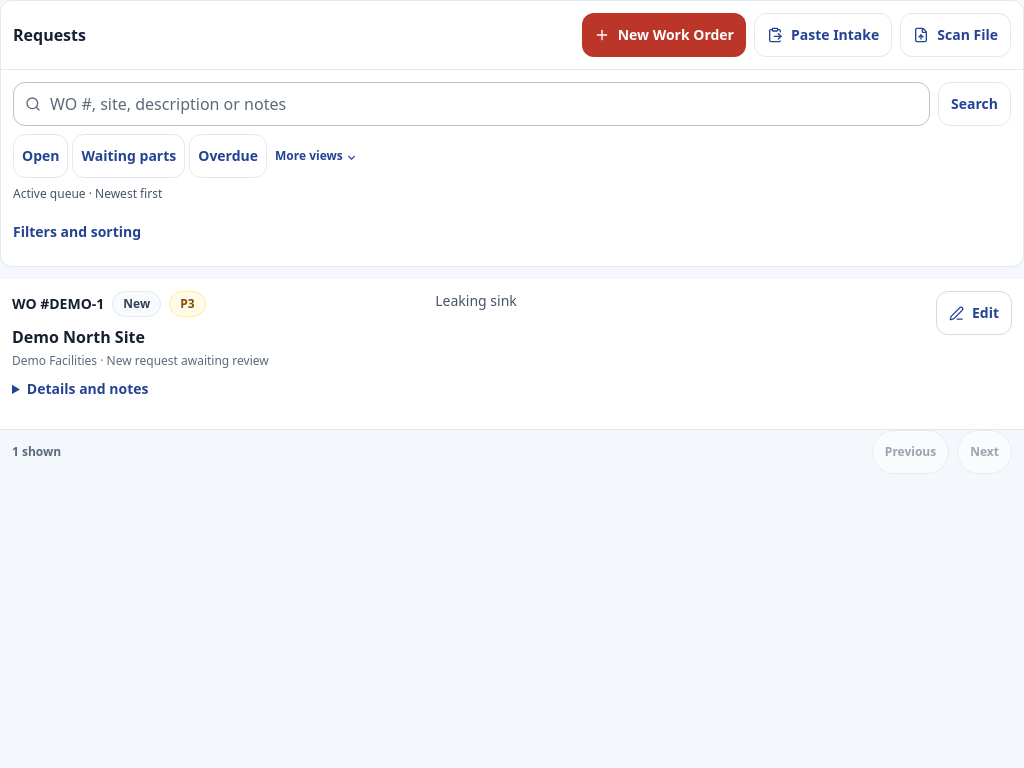
Test: work-order intake and editing › shows the saved priority in the editor when an older record has no normalized priority
This screenshot has width=1024, height=768.
Click the button "Edit" at (974, 313), box [936, 291, 1012, 335]
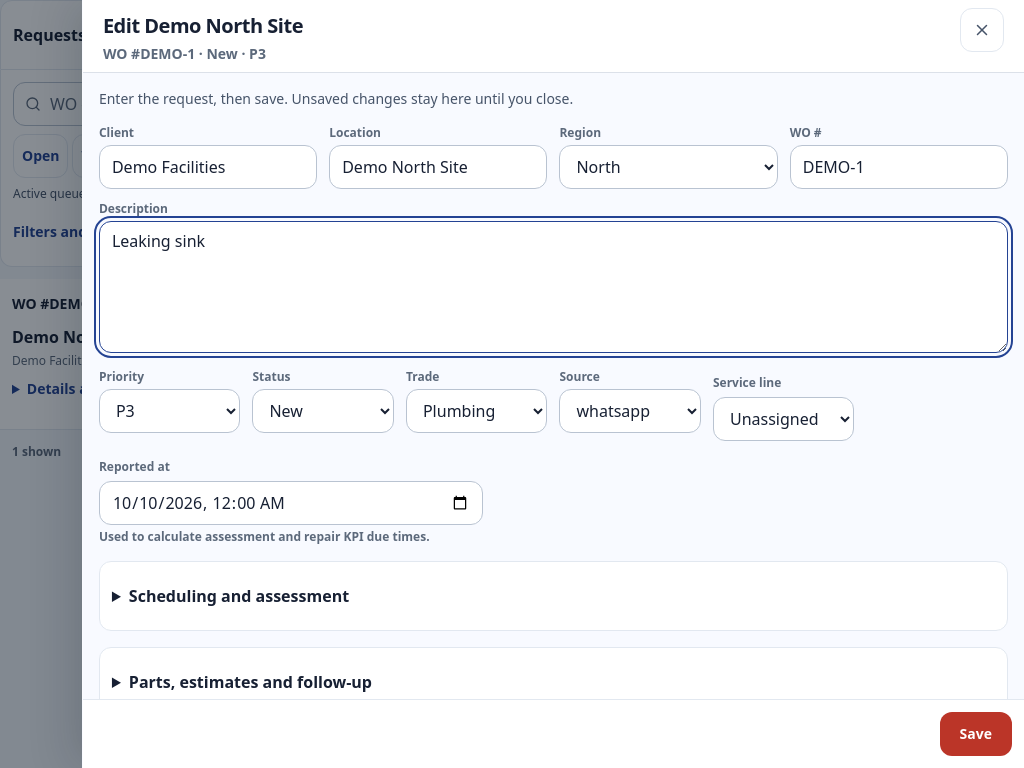
Expected: the text "WO #DEMO-1 · New · P3" is shown, [103, 44, 266, 63]
